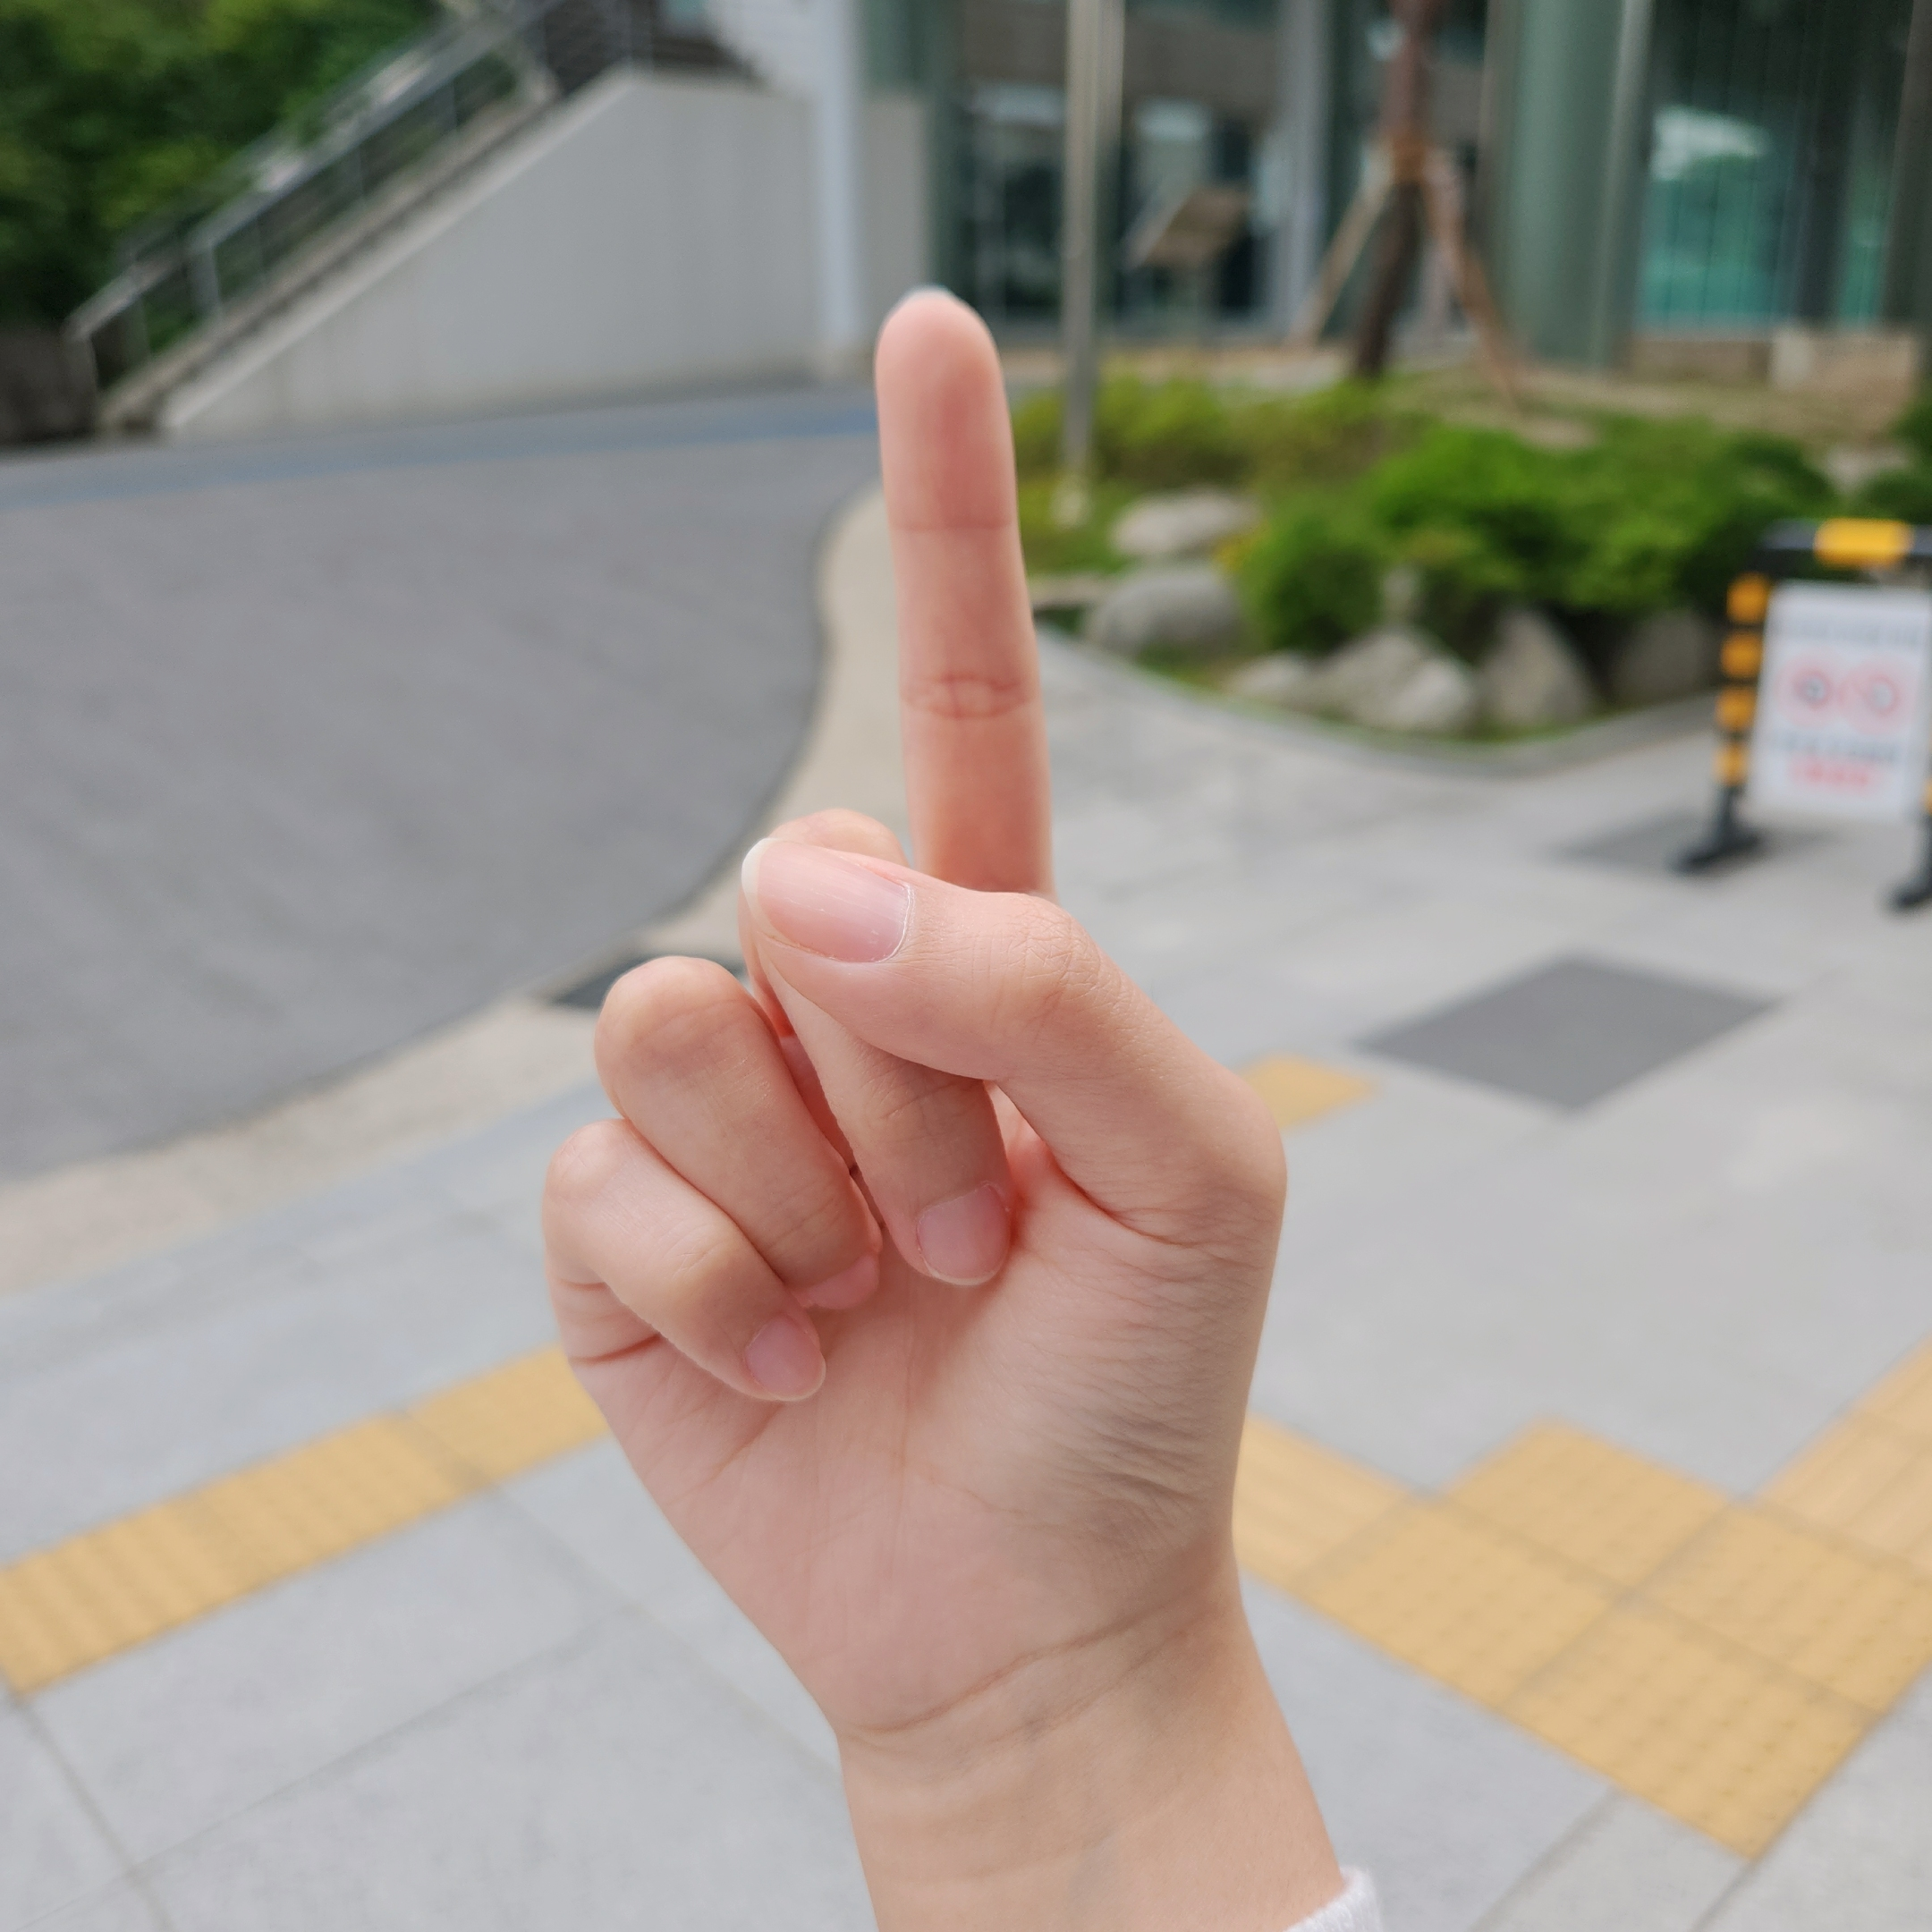what: (534, 281, 1295, 1729)
